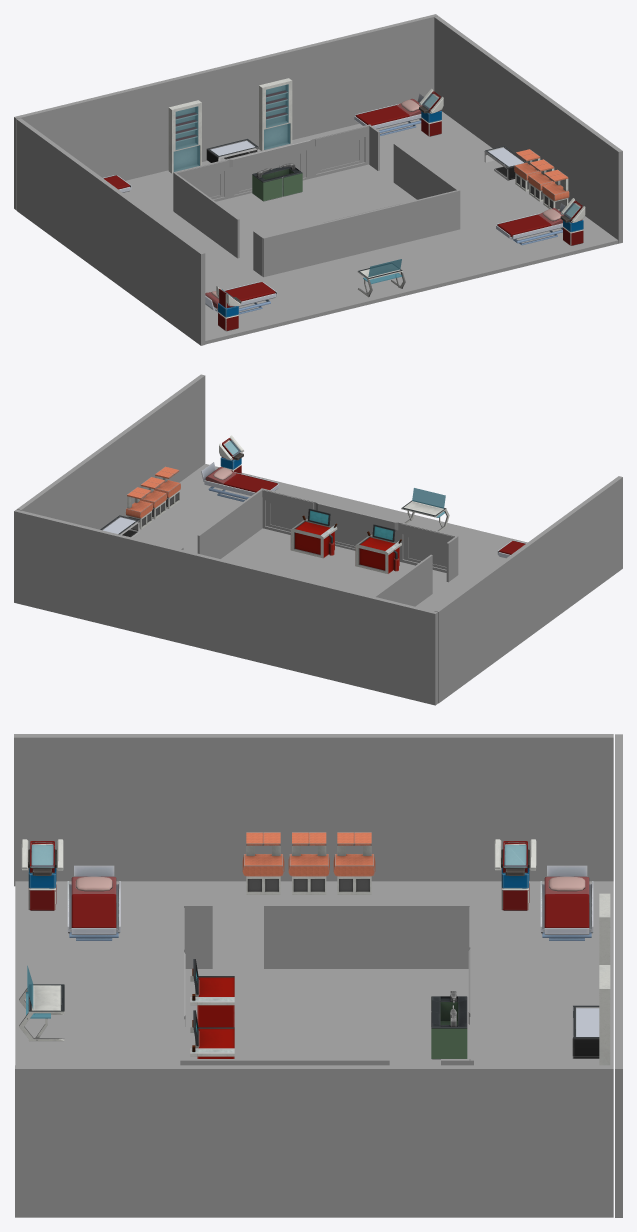
Rendered from Fase2-1.fbx.
3 views of the same model, one above another, from view 1: azimuth 30°, elevation 25°; view 2: azimuth 150°, elevation 25°; view 3: azimuth 270°, elevation 25° (orthographic). The views are drawn at different scales.
Parts seen in each view (by area): view 1: CHAO, PAREDE_TRAS, PAREDE_L, PAREDE_R, PAREDE_FRENTE_DENTRO, PAREDE_TRAS_DENTRO, PAREDE_L_DENTRO, PAREDE_R_DENTRO, ARMARIO, ARMARIO1, MACA2, MACA3 (+11 smaller); view 2: PAREDE_TRAS, PAREDE_L, CHAO, PAREDE_R, PAREDE_FRENTE_DENTRO, PAREDE_R_DENTRO, PAREDE_L_DENTRO, MESA_C2, MESA_C1, MACA2, MESA3, MESA_U6 (+4 smaller); view 3: PAREDE_R, PAREDE_L, CHAO, PAREDE_L_DENTRO, PAREDE_TRAS, MACA1, MACA, HUD1, HUD2, MESA_M, MESA_U4, MESA_U5 (+10 smaller).
Boxes of the visible parts, x1=… form: CHAO: x1=123, y1=111, x2=618, y2=344; PAREDE_TRAS: x1=14, y1=14, x2=437, y2=210; PAREDE_L: x1=16, y1=118, x2=205, y2=345; PAREDE_R: x1=434, y1=16, x2=622, y2=243; PAREDE_FRENTE_DENTRO: x1=262, y1=190, x2=460, y2=277; PAREDE_TRAS_DENTRO: x1=173, y1=124, x2=370, y2=211; PAREDE_L_DENTRO: x1=174, y1=173, x2=263, y2=276; PAREDE_R_DENTRO: x1=369, y1=125, x2=458, y2=199; ARMARIO: x1=168, y1=100, x2=201, y2=173; ARMARIO1: x1=259, y1=78, x2=292, y2=150; MACA2: x1=496, y1=203, x2=565, y2=245; MACA3: x1=354, y1=93, x2=423, y2=135; PAREDE_TRAS: x1=14, y1=509, x2=437, y2=705; PAREDE_L: x1=434, y1=476, x2=622, y2=703; CHAO: x1=133, y1=464, x2=527, y2=610; PAREDE_R: x1=17, y1=374, x2=205, y2=529; PAREDE_FRENTE_DENTRO: x1=261, y1=488, x2=458, y2=575; PAREDE_R_DENTRO: x1=179, y1=489, x2=262, y2=558; PAREDE_L_DENTRO: x1=374, y1=536, x2=457, y2=606; MESA_C2: x1=290, y1=508, x2=337, y2=558; MESA_C1: x1=355, y1=524, x2=401, y2=573; MACA2: x1=201, y1=462, x2=279, y2=501; MESA3: x1=401, y1=488, x2=449, y2=531; MESA_U6: x1=125, y1=487, x2=152, y2=529; PAREDE_R: x1=15, y1=1065, x2=613, y2=1217; PAREDE_L: x1=14, y1=734, x2=613, y2=886; CHAO: x1=15, y1=881, x2=613, y2=1065; PAREDE_L_DENTRO: x1=184, y1=904, x2=469, y2=968; PAREDE_TRAS: x1=615, y1=734, x2=622, y2=1217; MACA1: x1=67, y1=865, x2=120, y2=940; MACA: x1=540, y1=865, x2=593, y2=940; HUD1: x1=494, y1=839, x2=536, y2=910; HUD2: x1=21, y1=839, x2=63, y2=910; MESA_M: x1=431, y1=991, x2=467, y2=1059; MESA_U4: x1=333, y1=832, x2=375, y2=894; MESA_U5: x1=242, y1=832, x2=284, y2=894.
Size of the model in its own units: 37.05 by 7.69 by 28.49.
12 materials, 8 textured.
